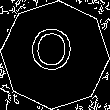O_S: (31, 28, 79, 82)
